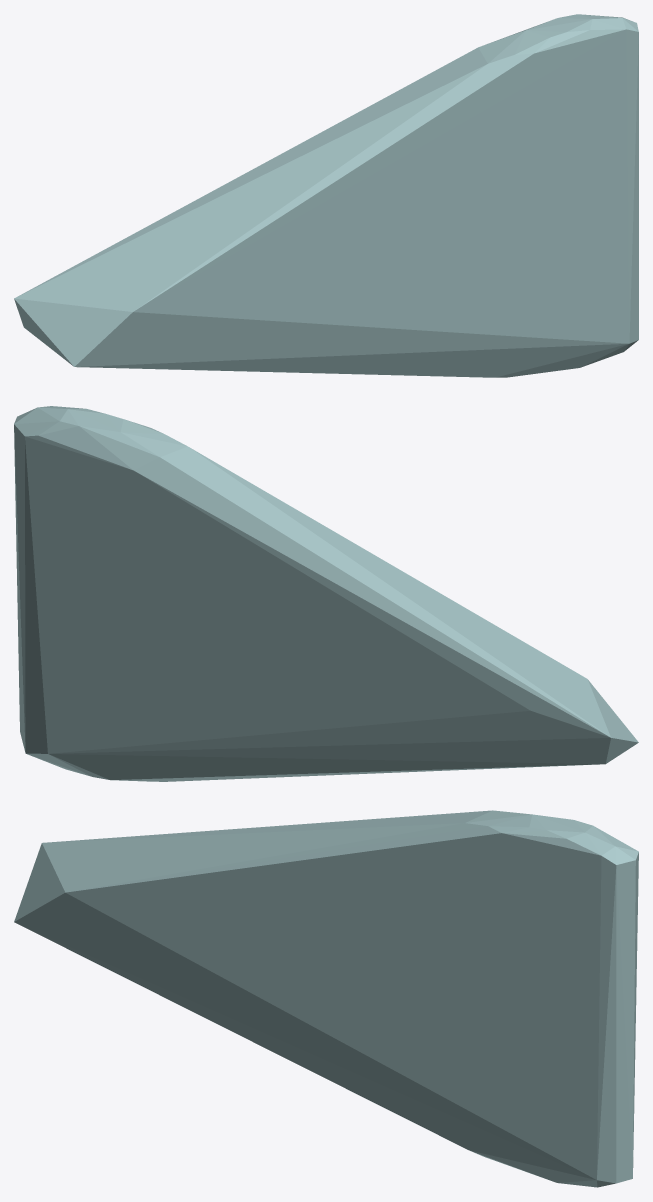
Rendered from instrument_wire_cutters_b01.glb.
3 renders of one model, top to bottom at view 1: azimuth 30°, elevation 25°; view 2: azimuth 150°, elevation 25°; view 3: azimuth 330°, elevation 25°, orthographic. The views are drawn at different scales.
Visible parts, largest first — view 1: geometry_0; view 2: geometry_0; view 3: geometry_0.
Part boxes in pixels (bbox=[...]): geometry_0: bbox=[14, 14, 638, 377]; geometry_0: bbox=[14, 406, 638, 781]; geometry_0: bbox=[14, 810, 638, 1187].
Size of the model in its own units: 0.4785 by 0.2605 by 0.0667.
